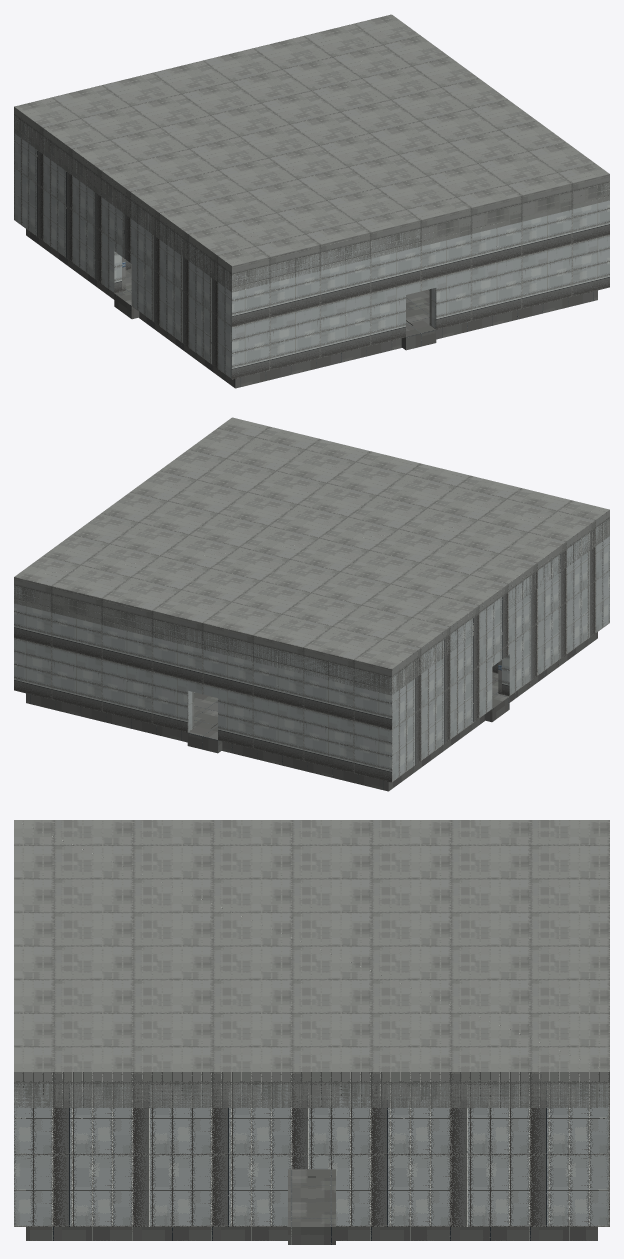
Rendered from shell_junction_cross.glb.
3 views of the same model, one above another, from view 1: azimuth 30°, elevation 25°; view 2: azimuth 150°, elevation 25°; view 3: azimuth 270°, elevation 25° (orthographic). The views are drawn at different scales.
Visible parts, largest first — view 1: crs; view 2: crs; view 3: crs.
Boxes of the visible parts, x1,y1,x2,y2 form: crs: (14,14,609,388); crs: (14,417,609,791); crs: (14,820,609,1244).
Size of what is drawn, in the model's own units: 30 by 9.66 by 30.
5 materials, 5 textured.
